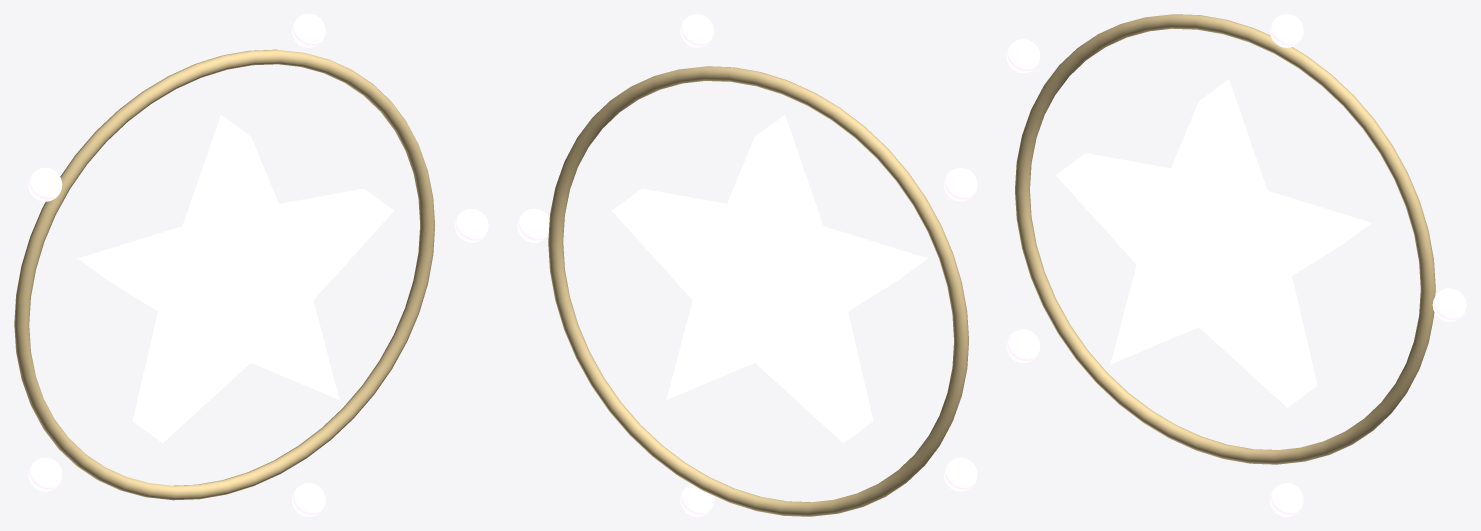
File: relic_1.glb
3 views of the same model, side by side, from view 1: azimuth 30°, elevation 25°; view 2: azimuth 150°, elevation 25°; view 3: azimuth 330°, elevation 25° (orthographic).
Visible parts, largest first — view 1: star; view 2: star; view 3: star.
Part boxes in pixels (box(x1,y1,x2,y2)): star: box(14, 14, 488, 516); star: box(517, 14, 977, 516); star: box(1006, 14, 1466, 516).
Bounding box in the file's own units: 1.06 × 1.1 × 0.1206.
